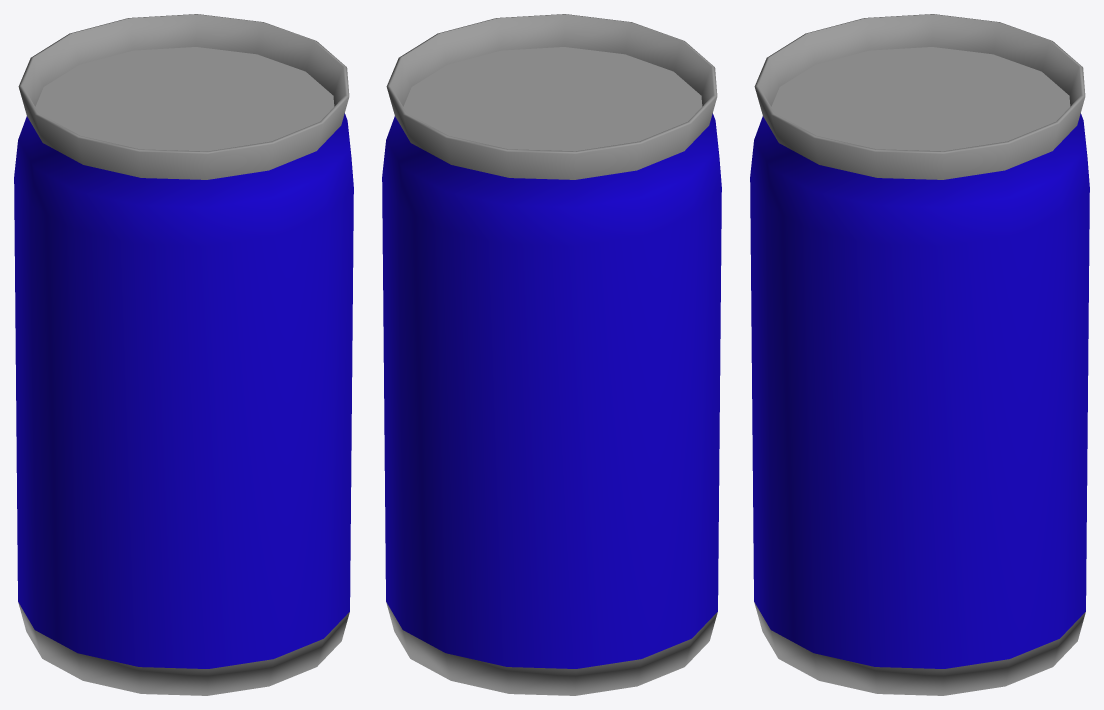
3 renders of one model, left to right at view 1: azimuth 30°, elevation 25°; view 2: azimuth 150°, elevation 25°; view 3: azimuth 270°, elevation 25°, orthographic.
Parts seen in each view (by area): view 1: lowpoly; view 2: lowpoly; view 3: lowpoly.
Part boxes in pixels (x1,y1,x2,y2): lowpoly: (14, 14, 353, 695); lowpoly: (382, 14, 721, 695); lowpoly: (750, 14, 1089, 695).
Bounding box in the file's own units: 10.08 × 17.84 × 10.06.
